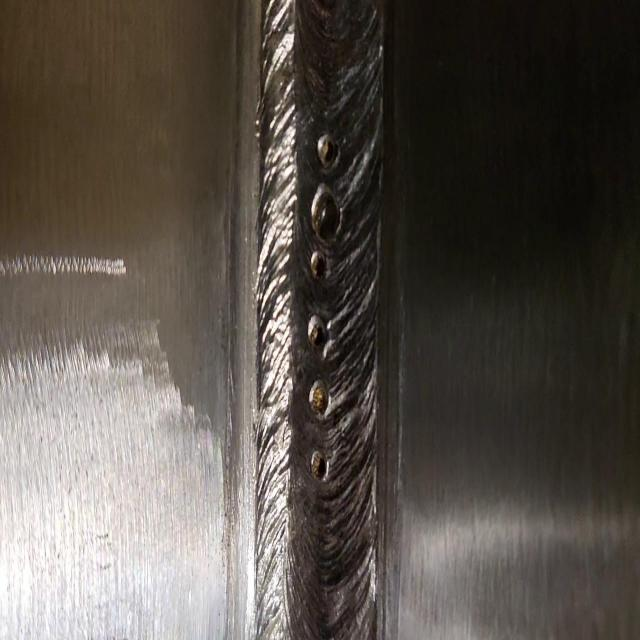Welding Line: (258, 3, 384, 640)
porosity: (309, 132, 342, 484)
